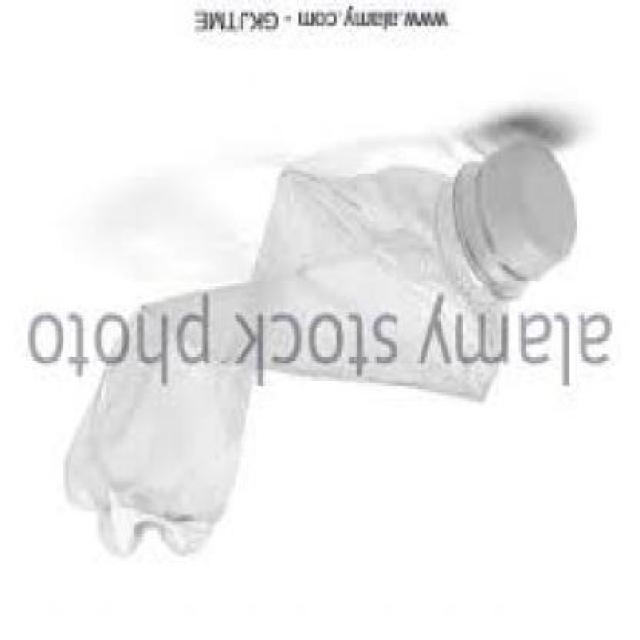plastic: (70, 145, 576, 563), (458, 149, 580, 303)
